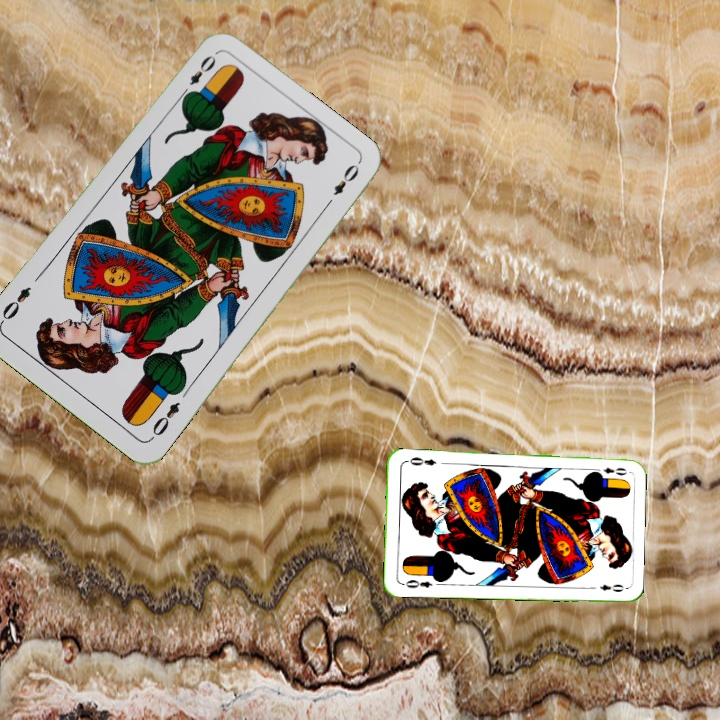EO: (176, 51, 219, 101), (146, 397, 183, 443), (589, 463, 629, 477), (398, 576, 435, 591)
